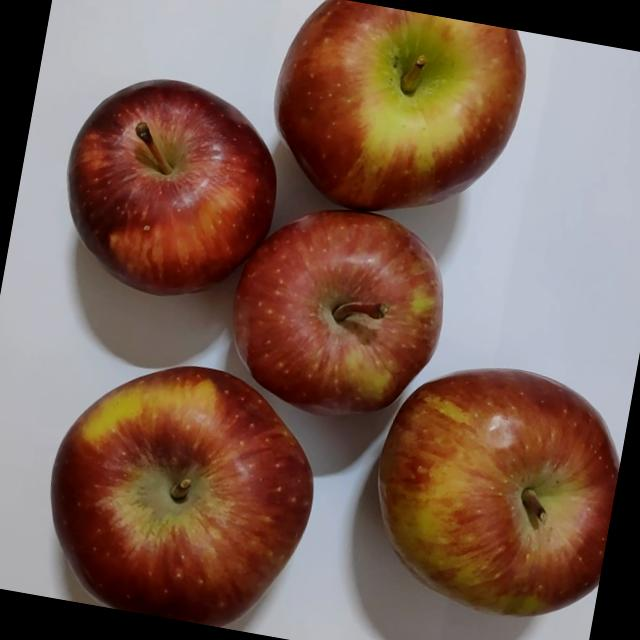apple: (30, 344, 337, 640), (343, 345, 633, 640), (244, 0, 536, 251), (41, 68, 298, 332), (204, 191, 466, 449)
